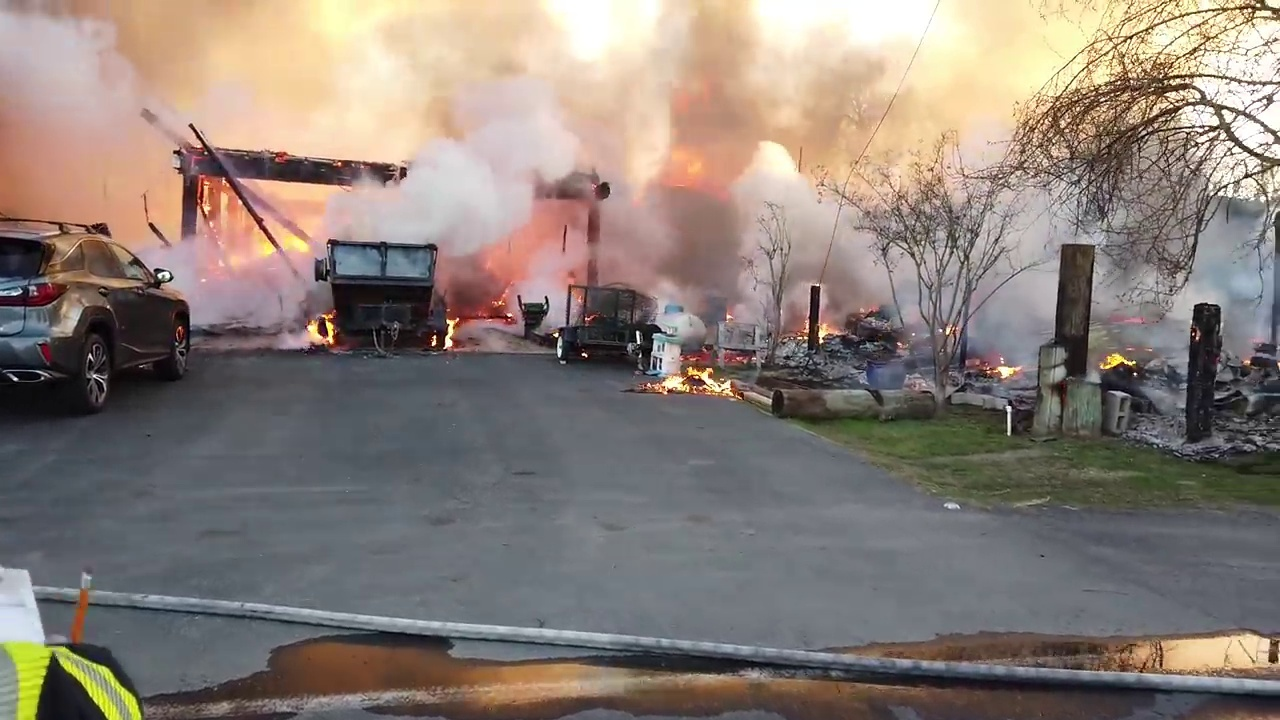fire: (644, 362, 742, 396), (305, 310, 340, 344), (432, 315, 459, 345), (1100, 349, 1136, 369), (988, 361, 1020, 374), (810, 321, 835, 336), (894, 338, 913, 353), (583, 308, 595, 319), (579, 349, 588, 356)
smoke: (599, 1, 770, 325), (775, 4, 1037, 159), (326, 78, 568, 241), (2, 5, 265, 145), (278, 6, 597, 79), (953, 198, 1062, 353), (756, 163, 883, 296), (1097, 267, 1187, 352), (1187, 219, 1258, 308), (1217, 314, 1280, 350)
